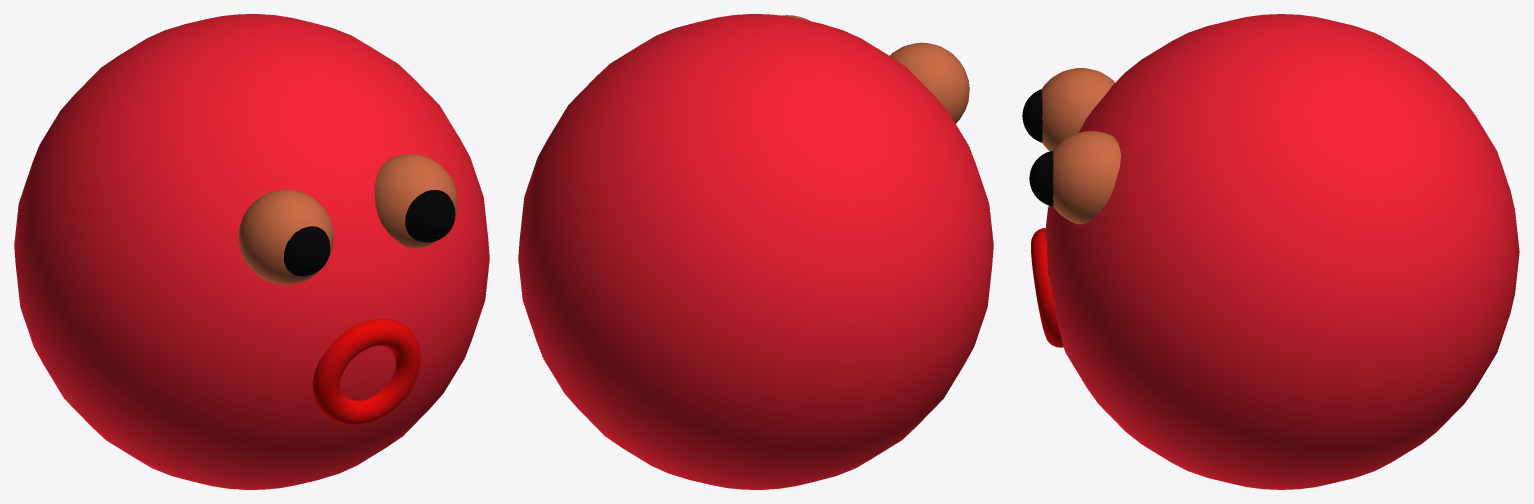
File: ishay.fbx
3 renders of one model, left to right at view 1: azimuth 30°, elevation 25°; view 2: azimuth 150°, elevation 25°; view 3: azimuth 270°, elevation 25°, orthographic.
Visible parts, largest first — view 1: Sphere, Torus, Sphere_1, Sphere_2, Sphere_5, Sphere_4; view 2: Sphere, Sphere_1; view 3: Sphere, Sphere_2, Sphere_1, Torus, Sphere_5, Sphere_4.
Boxes of the visible parts, <box> form: Sphere: <box>14,14,489,489</box>; Torus: <box>313,318,420,425</box>; Sphere_1: <box>238,189,333,284</box>; Sphere_2: <box>374,154,457,248</box>; Sphere_5: <box>405,190,455,242</box>; Sphere_4: <box>284,226,330,276</box>; Sphere: <box>518,14,993,489</box>; Sphere_1: <box>890,42,969,123</box>; Sphere: <box>1045,14,1519,489</box>; Sphere_2: <box>1053,131,1120,224</box>; Sphere_1: <box>1041,68,1114,151</box>; Torus: <box>1031,228,1063,347</box>; Sphere_5: <box>1029,151,1053,206</box>; Sphere_4: <box>1022,89,1042,142</box>.
Bounding box in the file's own units: 200 × 200 × 209.
